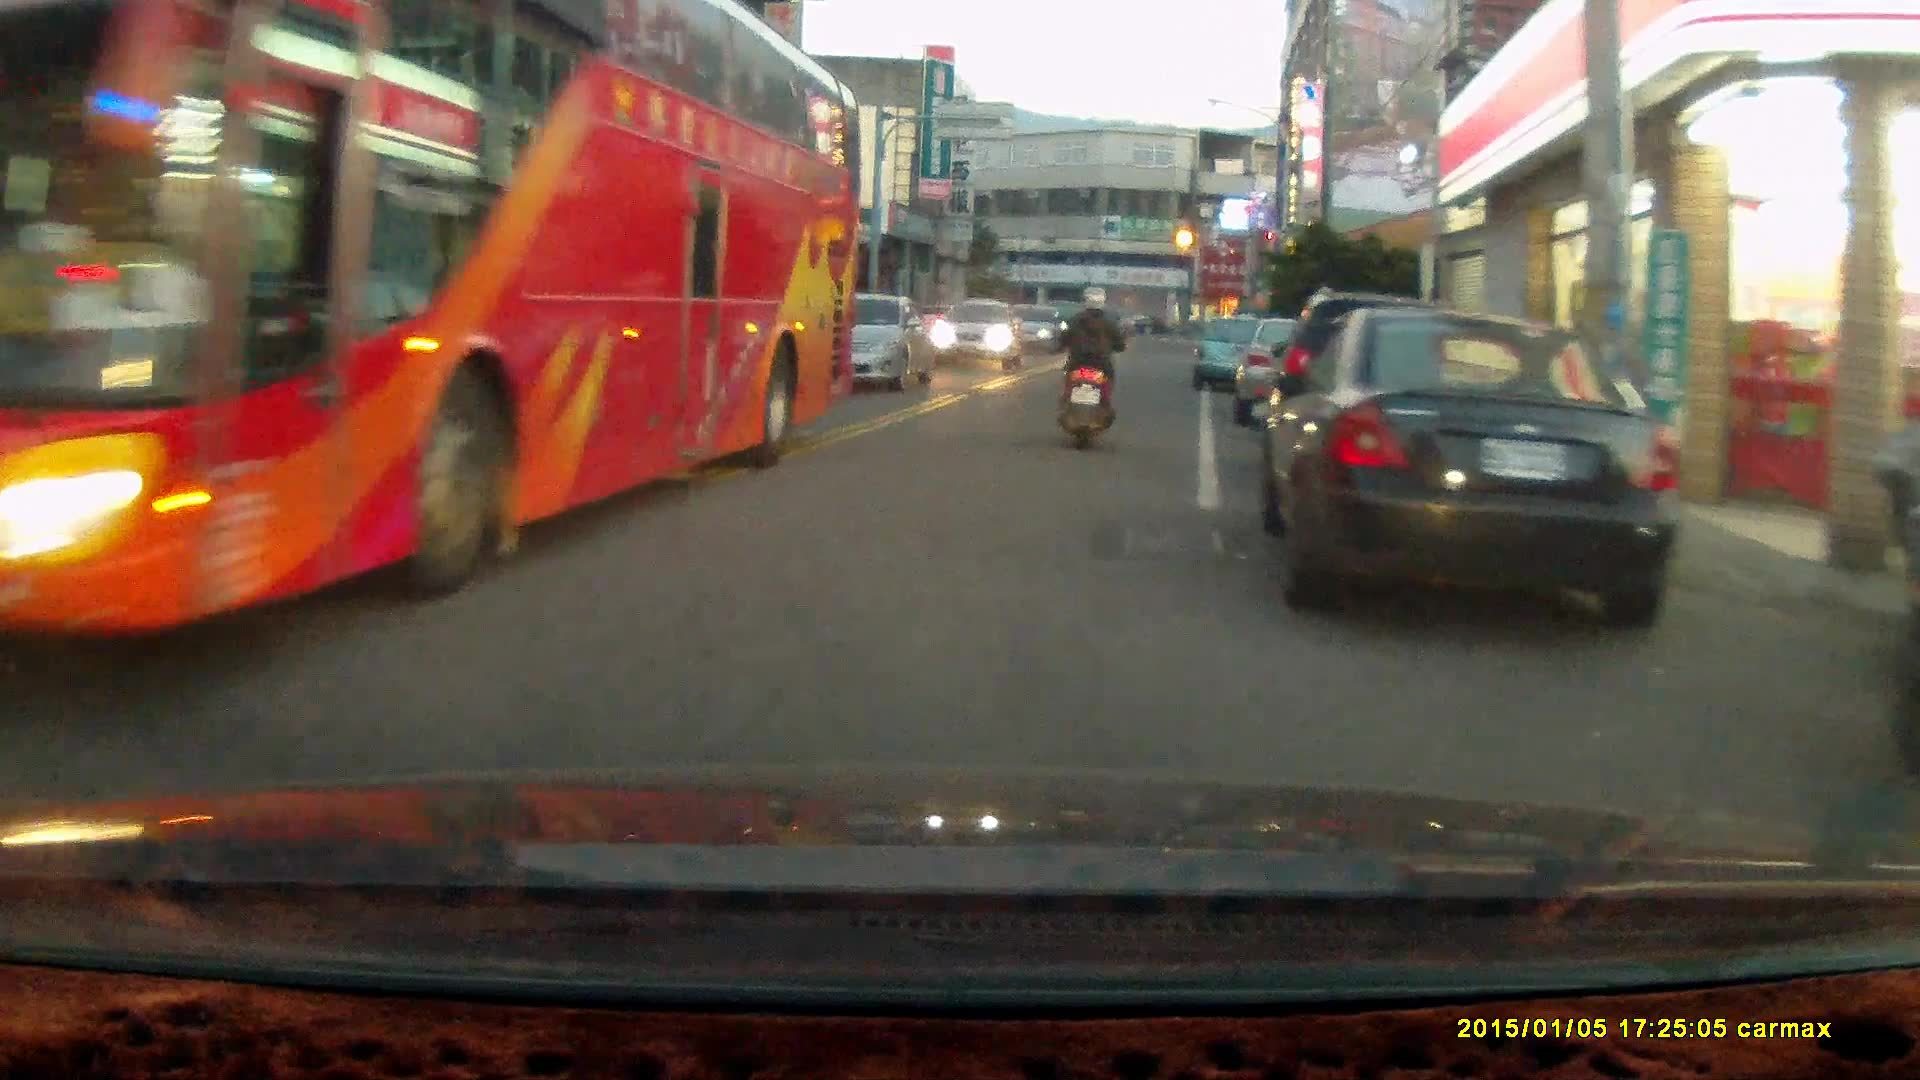rider: (1054, 281, 1129, 453)
vehicle: (1, 18, 871, 634), (1264, 309, 1681, 631), (788, 285, 936, 396), (927, 297, 1026, 375), (1194, 317, 1271, 389)
